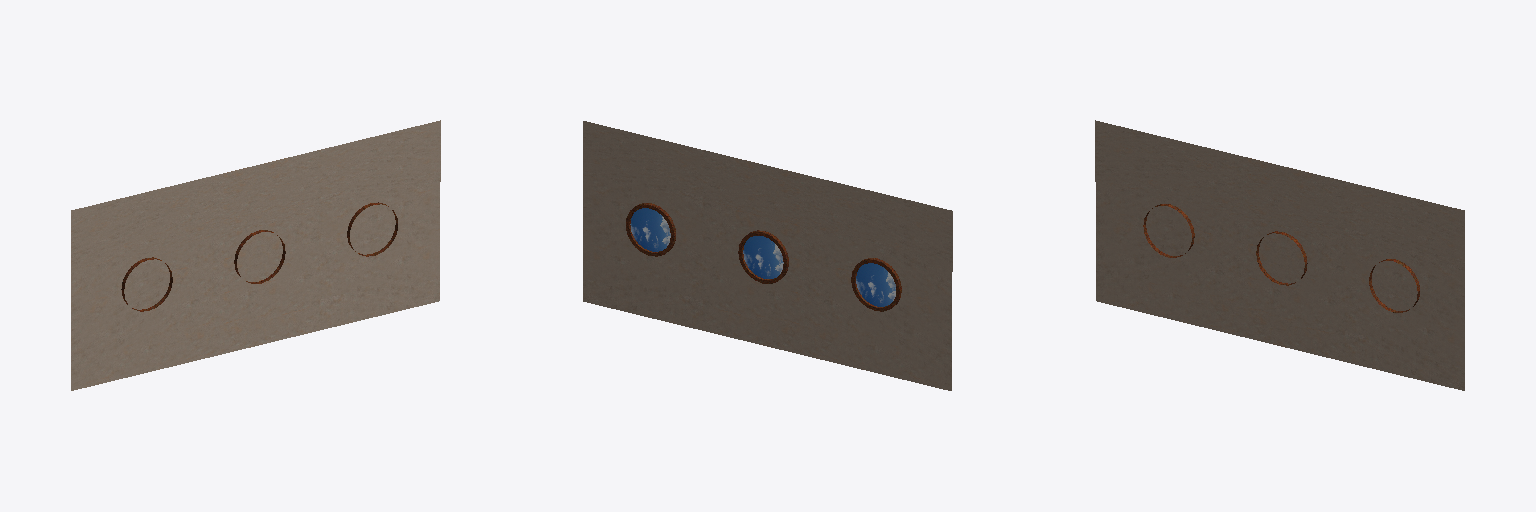
3 views of the same model, side by side, from view 1: azimuth 30°, elevation 25°; view 2: azimuth 150°, elevation 25°; view 3: azimuth 330°, elevation 25° (orthographic).
Visible parts, largest first — view 1: Plane06; view 2: Plane06; view 3: Plane06.
Boxes of the visible parts, box(x1,y1,x2,y2) form: Plane06: box(71, 120, 440, 390); Plane06: box(583, 121, 952, 390); Plane06: box(1095, 120, 1464, 390).
Size of the model in its own units: 1000 by 468 by 22.29.
Materials: 3 (3 with a texture image).